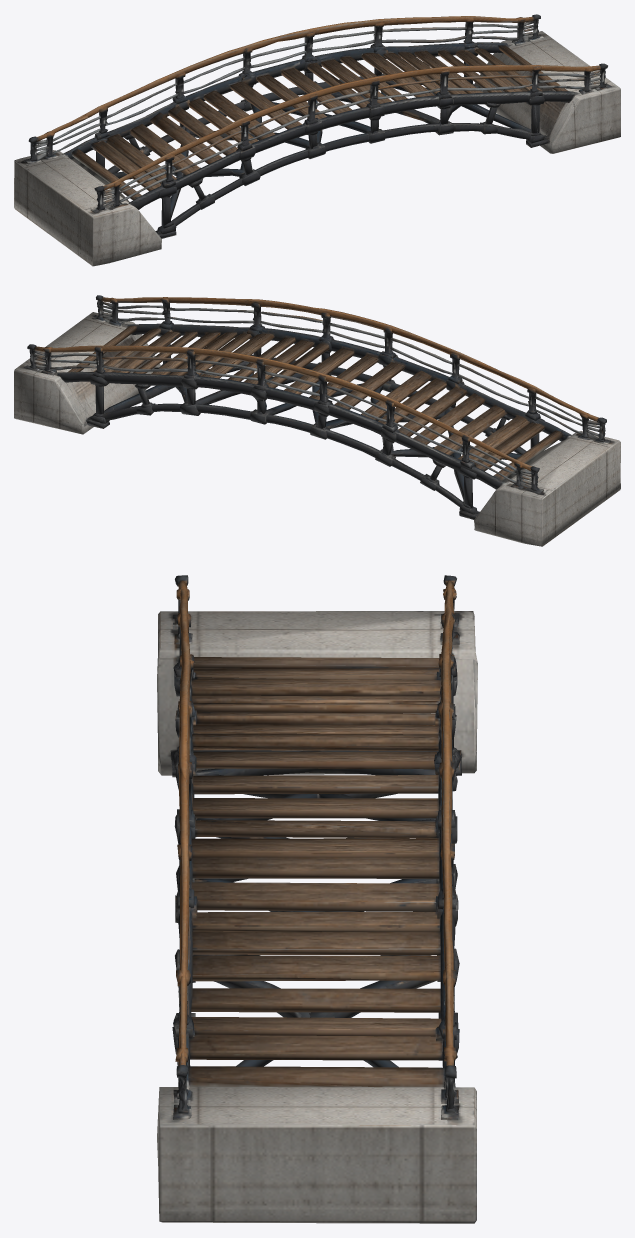
File: midori_main_arched_bridge_v1.glb
3 views of the same model, one above another, from view 1: azimuth 30°, elevation 25°; view 2: azimuth 150°, elevation 25°; view 3: azimuth 270°, elevation 25° (orthographic). The views are drawn at different scales.
Bounding box in the file's own units: 1 × 0.2105 × 0.2637.
Materials: 1 (1 with a texture image).
